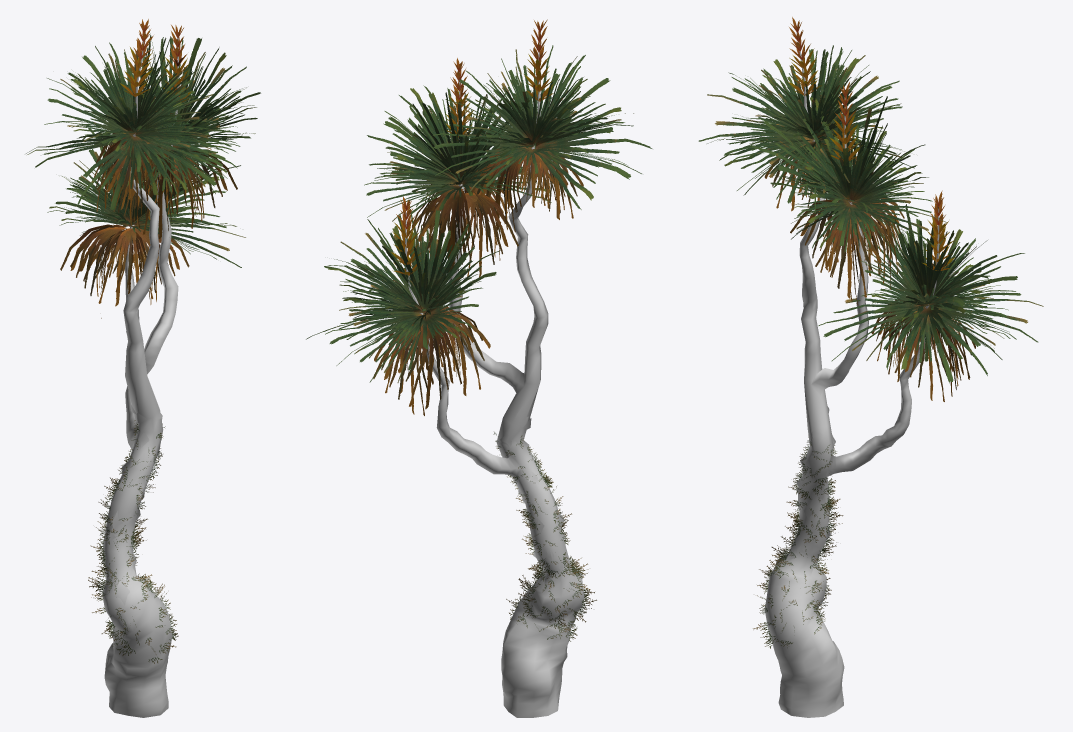
File: Tree_09_2_L1.fbx
The picture shows the model from 3 angles, left to right: view 1: azimuth 30°, elevation 25°; view 2: azimuth 150°, elevation 25°; view 3: azimuth 270°, elevation 25°; orthographic projection.
Visible parts, largest first — view 1: polySurface67; view 2: polySurface67; view 3: polySurface67.
Boxes of the visible parts, x1=… form: polySurface67: x1=26, y1=19, x2=260, y2=717; polySurface67: x1=306, y1=19, x2=652, y2=717; polySurface67: x1=698, y1=17, x2=1043, y2=717.
Size of the model in its own units: 507 by 1235 by 598.
